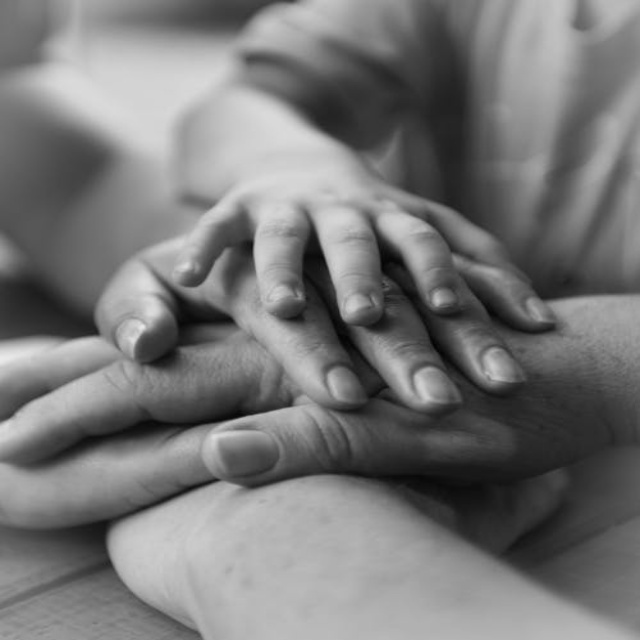Sin_guantes: (93, 171, 561, 425), (113, 464, 637, 640)
